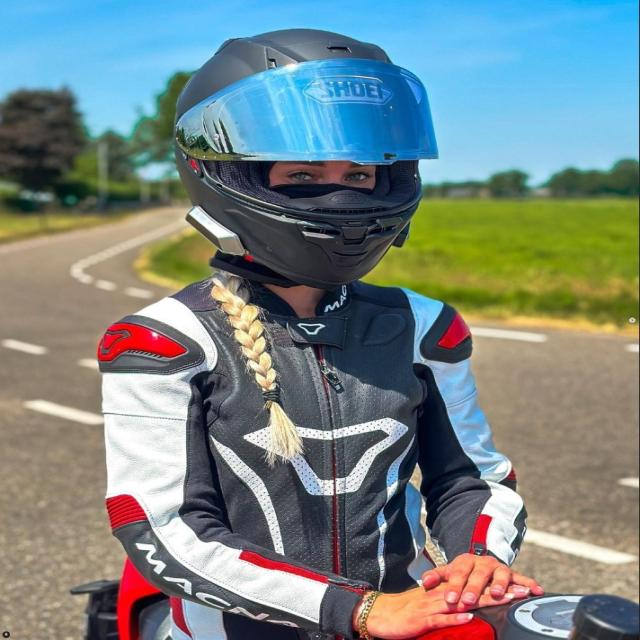helmet: (166, 23, 444, 295)
